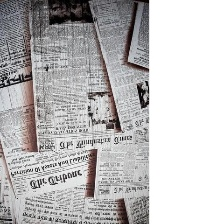news_paper: (25, 0, 149, 155), (0, 0, 95, 199), (84, 0, 150, 135), (17, 167, 130, 224), (88, 141, 150, 201), (124, 0, 150, 73), (0, 143, 19, 224), (118, 192, 150, 224)
